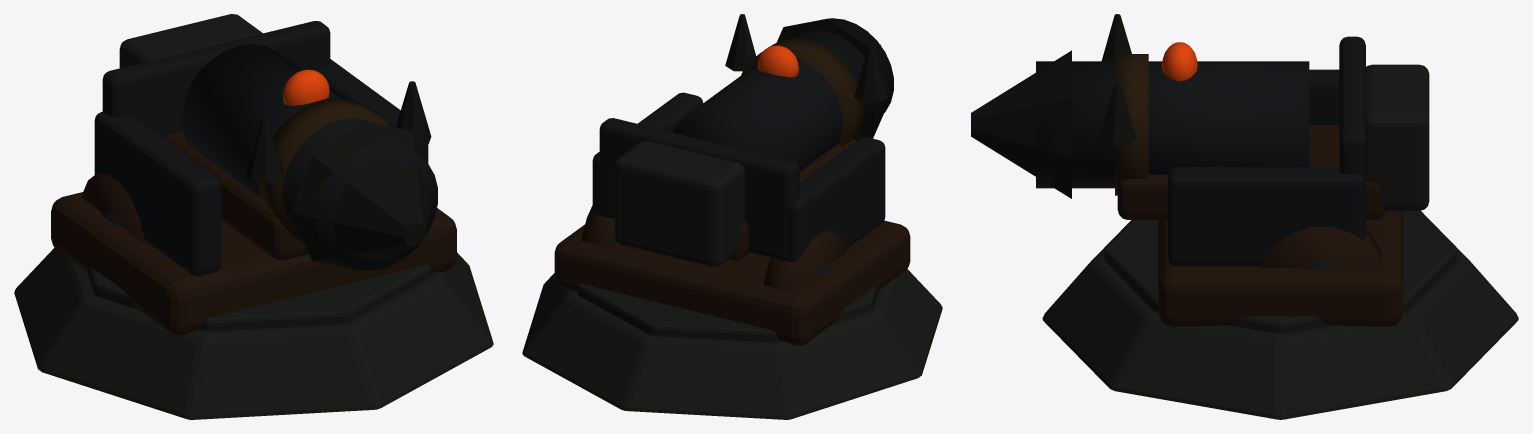
File: TowerDestroy3.obj
3 renders of one model, left to right at view 1: azimuth 30°, elevation 25°; view 2: azimuth 150°, elevation 25°; view 3: azimuth 270°, elevation 25°, orthographic. The views are drawn at different scales.
Parts seen in each view (by area): view 1: rough_stone_foundation_lower_course, reinforced_oak_sled, black_ram_barrel, stone_breaker_head, iron_ram_cheek, iron_ram_mantle, rough_stone_foundation_upper_course, oak_ram_bed, bronze_ram_band, stone_counterweight, iron_ram_cheek.001, heavy_wood_wheel (+3 smaller); view 2: rough_stone_foundation_lower_course, reinforced_oak_sled, black_ram_barrel, stone_counterweight, iron_ram_mantle, iron_ram_cheek, rough_stone_foundation_upper_course, bronze_ram_band, heavy_wood_wheel, iron_ram_cheek.001, stone_breaker_head, breaker_crown (+4 smaller); view 3: rough_stone_foundation_lower_course, black_ram_barrel, iron_ram_cheek.001, reinforced_oak_sled, stone_counterweight, rough_stone_foundation_upper_course, stone_breaker_head, oak_ram_bed, iron_ram_mantle, heavy_wood_wheel.001, bronze_ram_band, iron_ram_cheek (+3 smaller).
Part boxes in pixels (left/top/right/bottom): rough_stone_foundation_lower_course: left=14, top=248, right=493, bottom=419; reinforced_oak_sled: left=51, top=192, right=456, bottom=335; black_ram_barrel: left=182, top=44, right=437, bottom=270; stone_breaker_head: left=291, top=121, right=430, bottom=268; iron_ram_cheek: left=94, top=111, right=220, bottom=276; iron_ram_mantle: left=102, top=21, right=330, bottom=138; rough_stone_foundation_upper_course: left=87, top=264, right=431, bottom=331; oak_ram_bed: left=164, top=131, right=308, bottom=260; bronze_ram_band: left=258, top=98, right=389, bottom=242; stone_counterweight: left=119, top=14, right=262, bottom=68; iron_ram_cheek.001: left=315, top=59, right=428, bottom=163; heavy_wood_wheel: left=82, top=173, right=146, bottom=242; rough_stone_foundation_lower_course: left=522, top=269, right=942, bottom=419; reinforced_oak_sled: left=554, top=220, right=910, bottom=345; black_ram_barrel: left=673, top=18, right=893, bottom=171; stone_counterweight: left=614, top=141, right=744, bottom=267; iron_ram_mantle: left=599, top=118, right=799, bottom=259; iron_ram_cheek: left=777, top=137, right=885, bottom=262; rough_stone_foundation_upper_course: left=577, top=283, right=878, bottom=342; bronze_ram_band: left=741, top=38, right=863, bottom=146; heavy_wood_wheel: left=763, top=231, right=845, bottom=291; iron_ram_cheek.001: left=592, top=92, right=703, bottom=217; stone_breaker_head: left=777, top=18, right=890, bottom=140; breaker_crown: left=854, top=45, right=887, bottom=102; rough_stone_foundation_lower_course: left=1042, top=210, right=1518, bottom=419; black_ram_barrel: left=1036, top=61, right=1309, bottom=188; iron_ram_cheek.001: left=1168, top=167, right=1364, bottom=266; reinforced_oak_sled: left=1158, top=211, right=1402, bottom=326; stone_counterweight: left=1365, top=64, right=1429, bottom=210; rough_stone_foundation_upper_course: left=1104, top=211, right=1456, bottom=333; stone_breaker_head: left=971, top=50, right=1071, bottom=198; oak_ram_bed: left=1117, top=125, right=1385, bottom=219; iron_ram_mantle: left=1339, top=36, right=1365, bottom=233; heavy_wood_wheel.001: left=1262, top=227, right=1380, bottom=267; bronze_ram_band: left=1115, top=54, right=1148, bottom=195; iron_ram_cheek: left=1309, top=69, right=1339, bottom=124.
Bounding box in the file's own units: 1.99 × 1.27 × 2.28.
